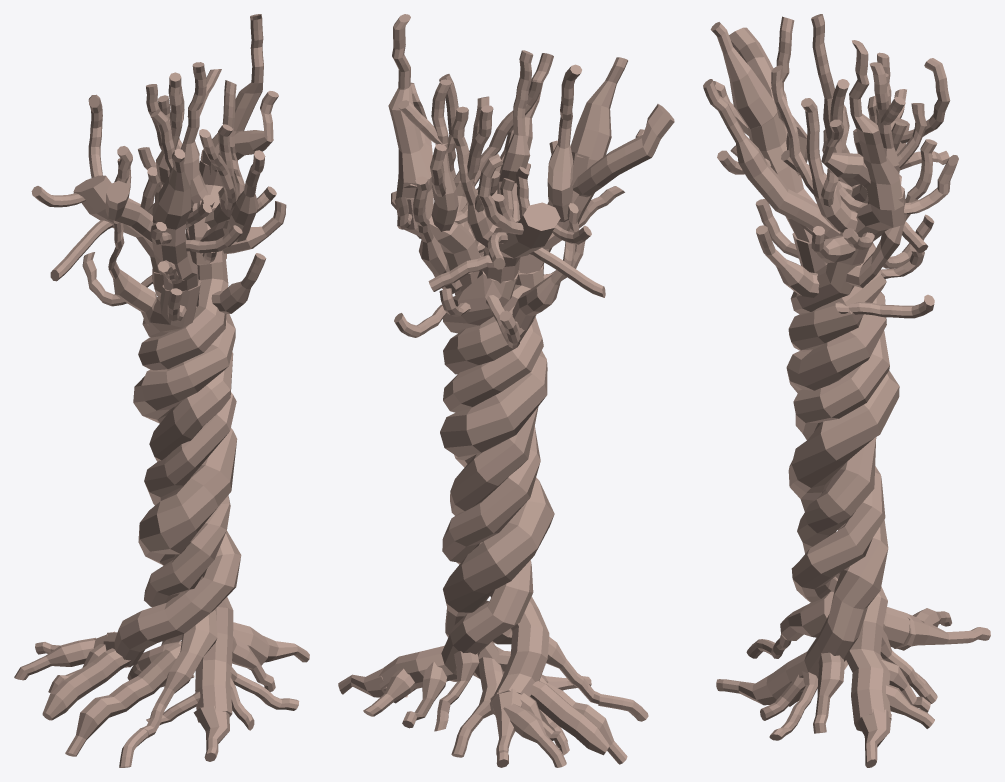
Rendered from smalltree.gltf.
3 renders of one model, left to right at view 1: azimuth 30°, elevation 25°; view 2: azimuth 150°, elevation 25°; view 3: azimuth 270°, elevation 25°, orthographic. The views are drawn at different scales.
Parts seen in each view (by area): view 1: group1404951957, group1213844220, group795776490, group715019349, group673027462, group266532939, group872836526, group1327754474, group1914748314, group1289544321, group887682243, group1261207293 (+24 smaller); view 2: group1213844220, group795776490, group1404951957, group1327754474, group280207858, group886767491, group1403328660, group872836526, group934042588, group266532939, group1914748314, group887682243 (+28 smaller); view 3: group1213844220, group795776490, group1404951957, group1289544321, group1327754474, group872836526, group216703636, group1941225610, group1261207293, group673027462, group934042588, group500320079 (+25 smaller).
Boxes of the visible parts, <box> form: group1404951957: <box>103,259,241,667</box>; group1213844220: <box>133,269,237,722</box>; group795776490: <box>142,279,269,669</box>; group715019349: <box>65,643,180,756</box>; group673027462: <box>140,610,217,738</box>; group266532939: <box>42,648,130,720</box>; group872836526: <box>152,148,191,229</box>; group1327754474: <box>202,14,263,174</box>; group1914748314: <box>181,62,208,203</box>; group1289544321: <box>200,150,265,251</box>; group887682243: <box>108,220,156,325</box>; group1261207293: <box>152,219,198,290</box>; group1213844220: <box>440,270,554,679</box>; group795776490: <box>378,264,543,703</box>; group1404951957: <box>442,255,549,714</box>; group1327754474: <box>388,14,432,198</box>; group280207858: <box>572,104,674,197</box>; group886767491: <box>547,64,581,222</box>; group1403328660: <box>481,202,560,283</box>; group872836526: <box>570,57,627,160</box>; group934042588: <box>497,50,533,221</box>; group266532939: <box>530,681,609,755</box>; group1914748314: <box>431,79,458,231</box>; group887682243: <box>512,203,579,330</box>; group1213844220: <box>766,243,899,706</box>; group795776490: <box>786,233,891,731</box>; group1404951957: <box>790,260,915,650</box>; group1289544321: <box>703,79,840,239</box>; group1327754474: <box>849,40,903,210</box>; group872836526: <box>710,22,777,129</box>; group216703636: <box>846,139,937,288</box>; group1941225610: <box>801,98,857,232</box>; group1261207293: <box>748,112,814,242</box>; group673027462: <box>771,591,833,658</box>; group934042588: <box>811,14,859,186</box>; group500320079: <box>756,225,819,297</box>.
Bounding box in the file's own units: 0.25 × 0.6217 × 0.2253.
